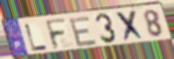3: (94, 12, 119, 45)
8: (143, 8, 164, 39)
E: (69, 15, 99, 49)
F: (44, 17, 68, 51)
L: (24, 23, 50, 53)
X: (115, 8, 147, 43)
